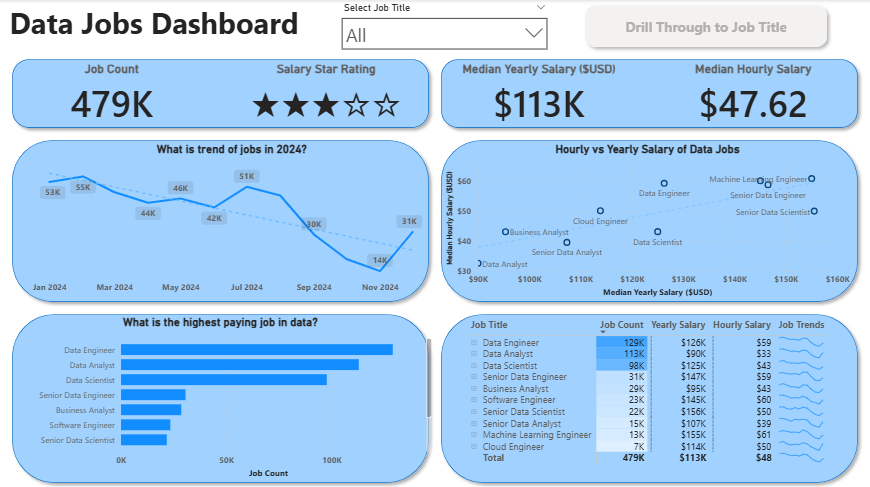

This screenshot's page, from the dashboard's own definition file:
{"tool":"powerbi","page":{"name":"Data Jobs Dashboard","canvas":[1280,720],"ordinal":0},"visuals":[{"type":"group","id":"g1","title":"Background","box":[10.3,79.3,1260.7,640.7],"z":0},{"type":"shape","box":[10.3,79.3,630.4,119],"z":0,"group":"g1"},{"type":"textbox","box":[9.9,0,483,79.5],"z":1000},{"type":"shape","box":[640.7,79.3,630.4,119],"z":1000,"group":"g1"},{"type":"slicer","fields":{"Values":["job_postings_flat.job_title_short"]},"box":[493.7,0,321.8,79.3],"z":2000},{"type":"shape","box":[640.7,198.3,630.4,255.7],"z":2000,"group":"g1"},{"type":"cardVisual","fields":{"Data":["CountNonNull(job_postings_flat.job_title_short)"]},"box":[10.3,78.7,311.4,119.8],"z":3000},{"type":"shape","box":[10.3,198.3,630.4,255.7],"z":3000,"group":"g1"},{"type":"cardVisual","fields":{"Data":["Median(job_postings_flat.salary_year_avg)"]},"box":[640.7,79.3,305.6,119],"z":4000},{"type":"shape","box":[10.3,454,630.4,266],"z":4000,"group":"g1"},{"type":"cardVisual","fields":{"Data":["job_postings_flat.Salary Star Rating"]},"box":[321.8,79.3,318.9,119],"z":5000},{"type":"shape","box":[640.7,454,630.4,266],"z":5000,"group":"g1"},{"type":"cardVisual","fields":{"Data":["Median(job_postings_flat.salary_hour_avg)"]},"box":[946.3,79.3,324.7,119],"z":6000},{"type":"lineChart","title":"What is trend of jobs in 2024?","fields":{"Category":["job_postings_flat.job_posted_date.Variation.Date Hierarchy.Year","job_postings_flat.job_posted_date.Variation.Date Hierarchy.Quarter","job_postings_flat.job_posted_date.Variation.Date Hierarchy.Month","job_postings_flat.job_posted_date.Variation.Date Hierarchy.Day"],"Y":["CountNonNull(job_postings_flat.job_title_short)"]},"box":[44.1,210.1,596.6,232.2],"z":7000},{"type":"barChart","title":"What is the highest paying job in data?","fields":{"Category":["job_postings_flat.job_title_short"],"Y":["CountNonNull(job_postings_flat.job_title_short)"]},"box":[10.3,464.3,630.4,243.9],"z":8000},{"type":"scatterChart","title":"Hourly vs Yearly Salary of Data Jobs","fields":{"X":["Median(job_postings_flat.salary_year_avg)"],"Y":["Median(job_postings_flat.salary_hour_avg)"],"Series":["job_postings_flat.job_title_short"]},"box":[650.9,210.1,603.9,232.2],"z":9000},{"type":"pivotTable","fields":{"Rows":["job_postings_flat.job_title_short","job_postings_flat.job_posted_date.Variation.Date Hierarchy.Quarter"],"Values":["CountNonNull(job_postings_flat.job_title_short)","Median(job_postings_flat.salary_year_avg)","Median(job_postings_flat.salary_hour_avg)","SparklineData(CountNonNull(job_postings_flat.job_title_short)_[job_postings_flat.job_posted_date.Variation.Date Hierarch"]},"box":[683.3,464.3,542.2,243.9],"z":10000},{"type":"actionButton","box":[852.2,0,373.2,79.3],"z":11000}]}

Visuals, with their boxes in screenshot pixels (x1, y1, x2, y2), scaled from the page's 1280x720 canvas onto the 870x487 screenshot:
"Background" group: bbox(7, 54, 864, 486)
shape: bbox(7, 54, 435, 134)
textbox: bbox(7, 0, 335, 54)
shape: bbox(435, 54, 864, 134)
slicer - job_postings_flat.job_title_short: bbox(336, 0, 554, 54)
shape: bbox(435, 134, 864, 307)
cardVisual - CountNonNull(job_postings_flat.job_title_short): bbox(7, 53, 219, 134)
shape: bbox(7, 134, 435, 307)
cardVisual - Median(job_postings_flat.salary_year_avg): bbox(435, 54, 643, 134)
shape: bbox(7, 307, 435, 486)
cardVisual - job_postings_flat.Salary Star Rating: bbox(219, 54, 435, 134)
shape: bbox(435, 307, 864, 486)
cardVisual - Median(job_postings_flat.salary_hour_avg): bbox(643, 54, 864, 134)
"What is trend of jobs in 2024?" lineChart: bbox(30, 142, 435, 299)
"What is the highest paying job in data?" barChart: bbox(7, 314, 435, 479)
"Hourly vs Yearly Salary of Data Jobs" scatterChart: bbox(442, 142, 853, 299)
pivotTable - job_postings_flat.job_title_short x job_postings_flat.job_posted_date.Variation.Date Hierarchy.Quarter: bbox(464, 314, 833, 479)
actionButton: bbox(579, 0, 833, 54)
